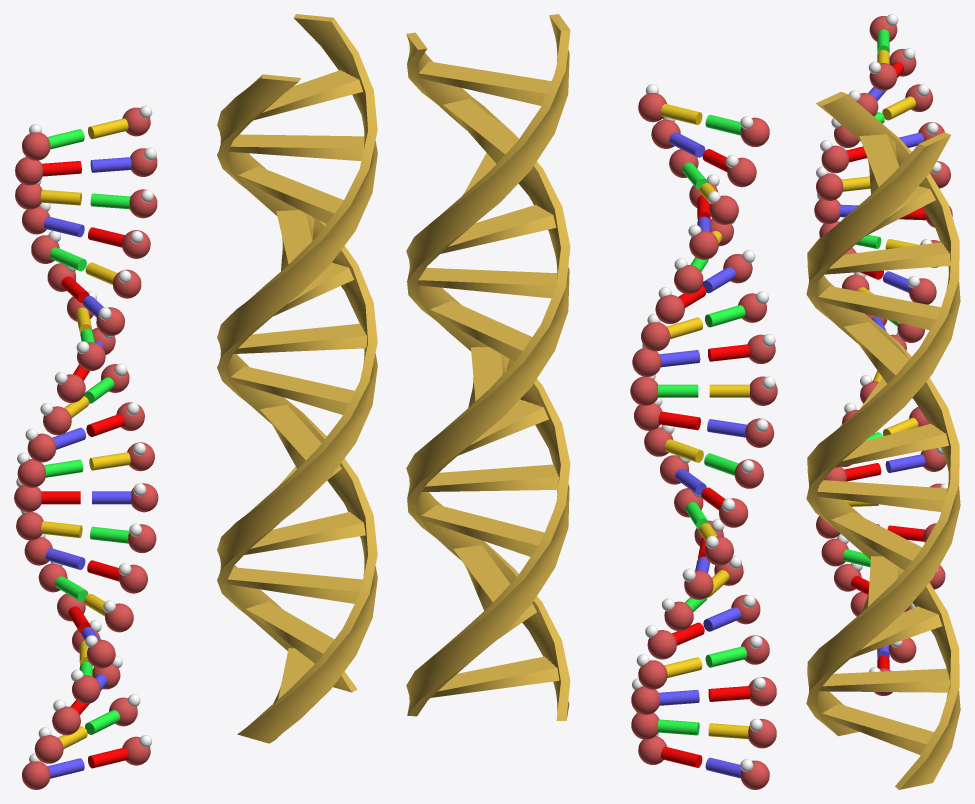
Rendered from dna.glb.
3 renders of one model, left to right at view 1: azimuth 30°, elevation 25°; view 2: azimuth 150°, elevation 25°; view 3: azimuth 270°, elevation 25°, orthographic. The views are drawn at different scales.
Parts seen in each view (by area): view 1: Object_2, Object_7, Object_8, Object_5, Object_4, Object_6, Object_3, Object_9, Object_10; view 2: Object_2, Object_7, Object_8, Object_3, Object_5, Object_4, Object_6, Object_9, Object_10; view 3: Object_2, Object_7, Object_8, Object_4, Object_6, Object_3, Object_9, Object_5, Object_10.
Boxes of the visible parts, left/top/right/bottom form: Object_2: left=217, top=14, right=377, bottom=743; Object_7: left=14, top=107, right=157, bottom=689; Object_8: left=16, top=364, right=158, bottom=789; Object_5: left=44, top=129, right=130, bottom=734; Object_4: left=41, top=161, right=128, bottom=768; Object_6: left=40, top=118, right=130, bottom=748; Object_3: left=44, top=157, right=131, bottom=778; Object_9: left=16, top=105, right=156, bottom=710; Object_10: left=20, top=363, right=152, bottom=762; Object_2: left=406, top=14, right=570, bottom=720; Object_7: left=631, top=93, right=775, bottom=714; Object_8: left=630, top=376, right=777, bottom=789; Object_3: left=659, top=132, right=746, bottom=778; Object_5: left=657, top=114, right=747, bottom=735; Object_4: left=658, top=149, right=750, bottom=767; Object_6: left=661, top=103, right=749, bottom=739; Object_9: left=642, top=84, right=775, bottom=690; Object_10: left=632, top=374, right=775, bottom=772; Object_2: left=806, top=91, right=960, bottom=789; Object_7: left=814, top=16, right=952, bottom=611; Object_8: left=816, top=274, right=946, bottom=695; Object_4: left=844, top=62, right=926, bottom=669; Object_6: left=842, top=50, right=918, bottom=506; Object_3: left=839, top=87, right=925, bottom=658; Object_9: left=816, top=14, right=941, bottom=570; Object_5: left=843, top=29, right=898, bottom=567; Object_10: left=837, top=272, right=948, bottom=672.
Bounding box in the file's own units: 40.56 × 76.48 × 16.42.
